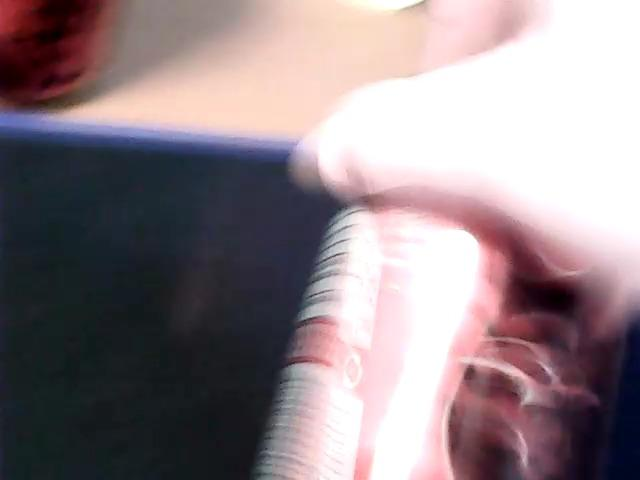coke: (262, 180, 628, 480), (0, 0, 116, 110)
